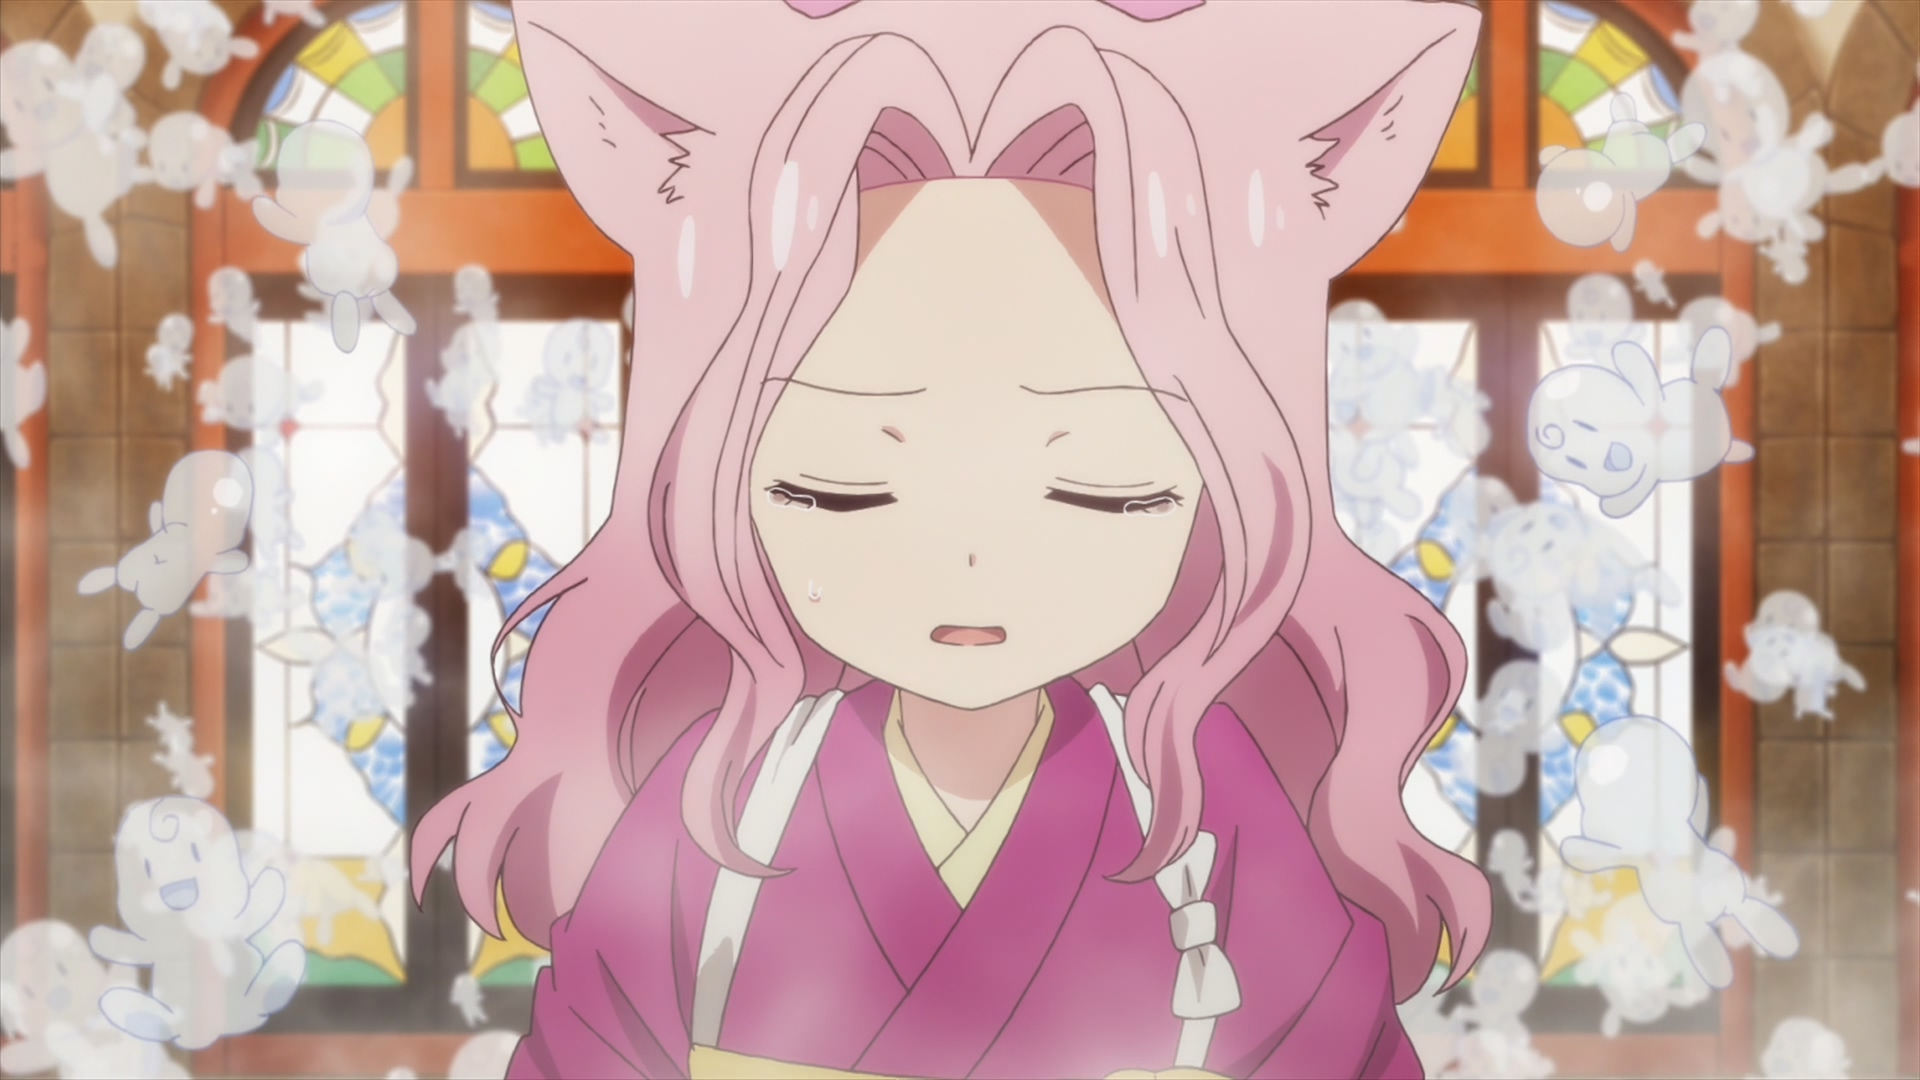莲: (407, 1, 1491, 1080)
